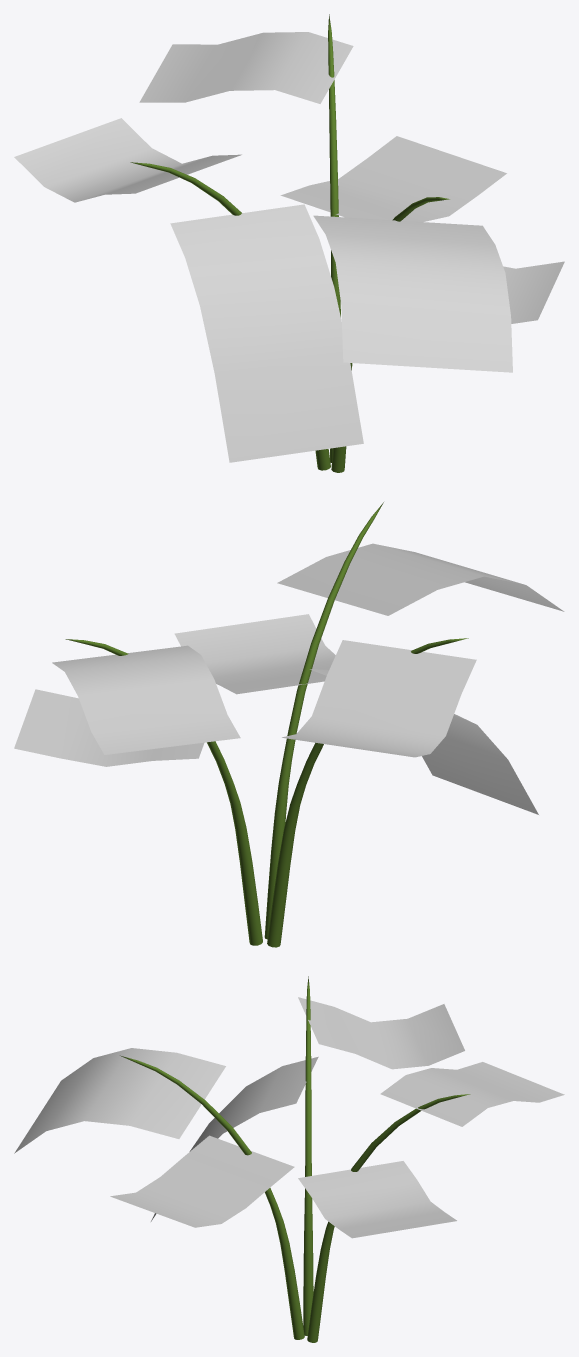
Rendered from Bodenpflanze 1.fbx.
3 renders of one model, top to bottom at view 1: azimuth 30°, elevation 25°; view 2: azimuth 150°, elevation 25°; view 3: azimuth 270°, elevation 25°, orthographic. The views are drawn at different scales.
Parts seen in each view (by area): view 1: Plane.005, BezierCurve.004; view 2: Plane.005, BezierCurve.004; view 3: Plane.005, BezierCurve.004.
Part boxes in pixels (x1,y1,x2,y2): Plane.005: (14, 32, 564, 462); BezierCurve.004: (130, 14, 449, 472); Plane.005: (14, 543, 564, 814); BezierCurve.004: (65, 502, 468, 947); Plane.005: (14, 997, 564, 1238); BezierCurve.004: (120, 976, 470, 1342).
Bounding box in the file's own units: 2.3 × 1.78 × 3.14.
